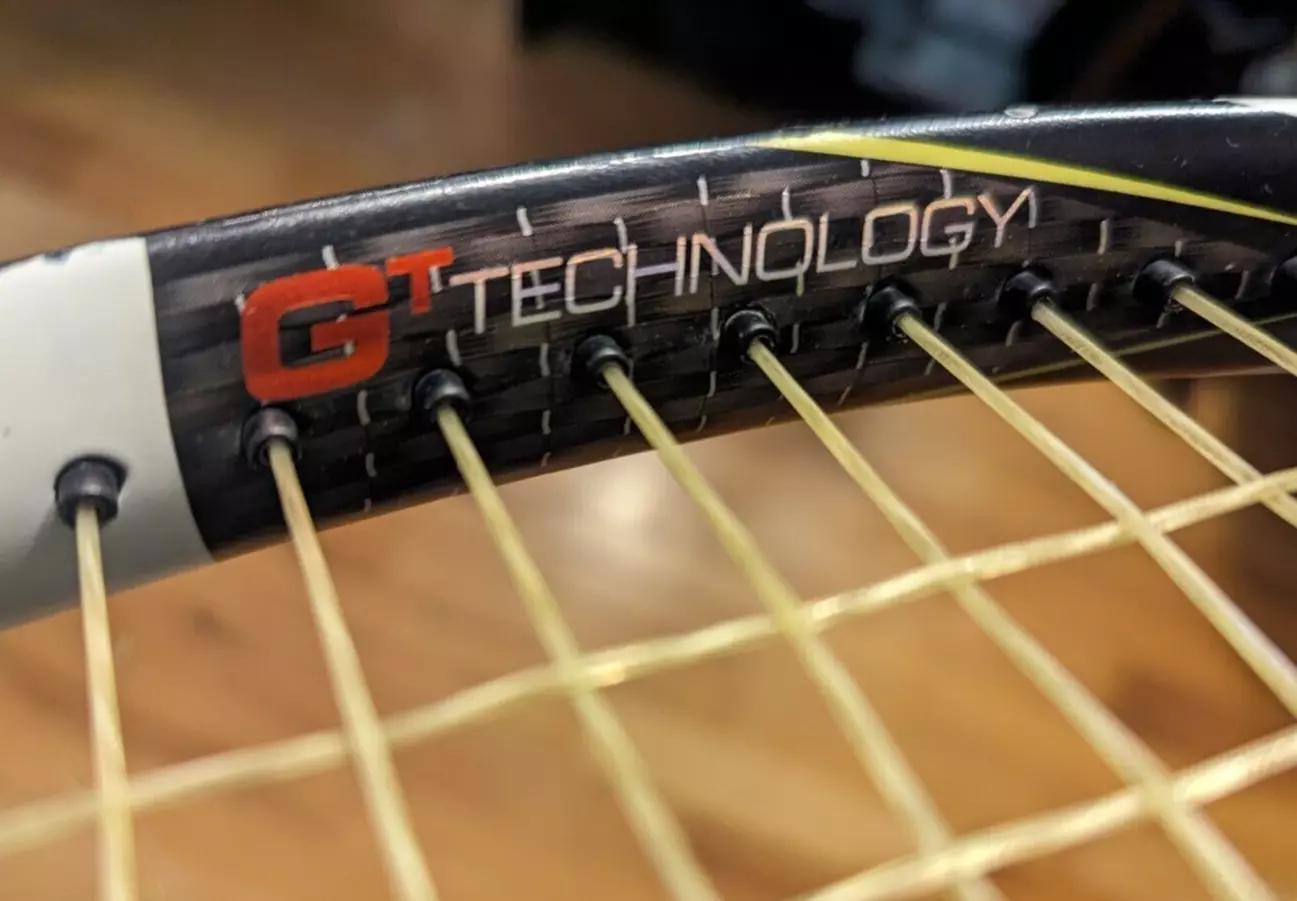Tennis-Racket: (0, 104, 1297, 624)
